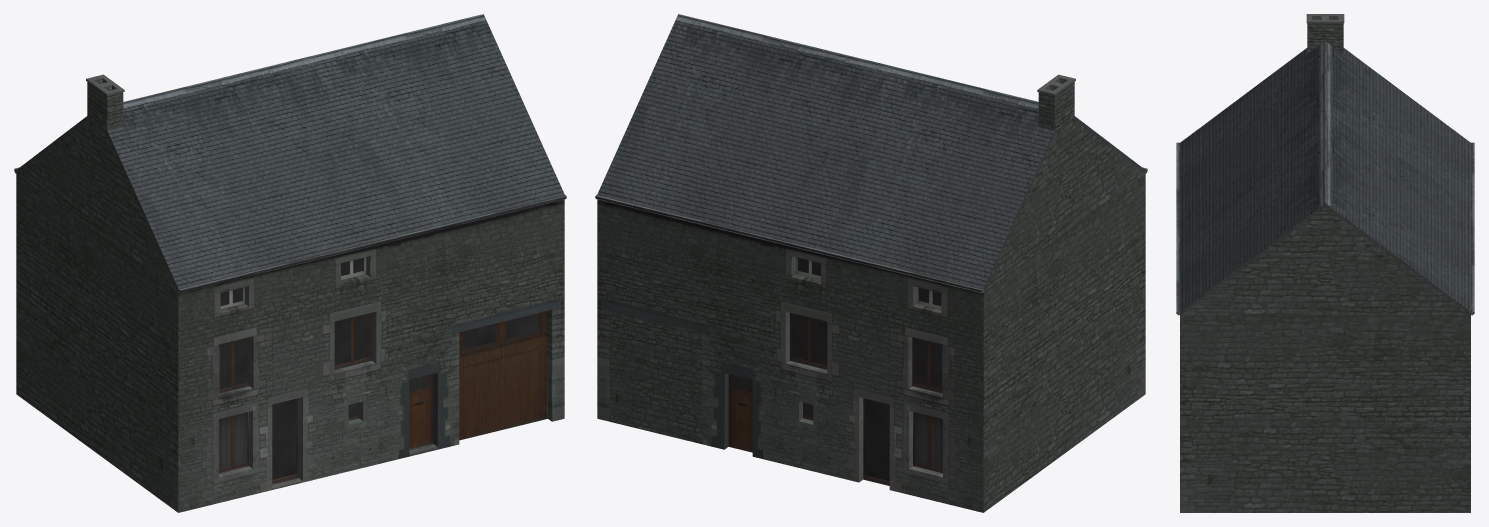
Rendered from romeree_house_1_belgium.glb.
The picture shows the model from 3 angles, left to right: view 1: azimuth 30°, elevation 25°; view 2: azimuth 150°, elevation 25°; view 3: azimuth 270°, elevation 25°; orthographic projection. The views are drawn at different scales.
Bounding box in the file's own units: 11.8 × 10.7 × 8.77.
Materials: 1 (1 with a texture image).
